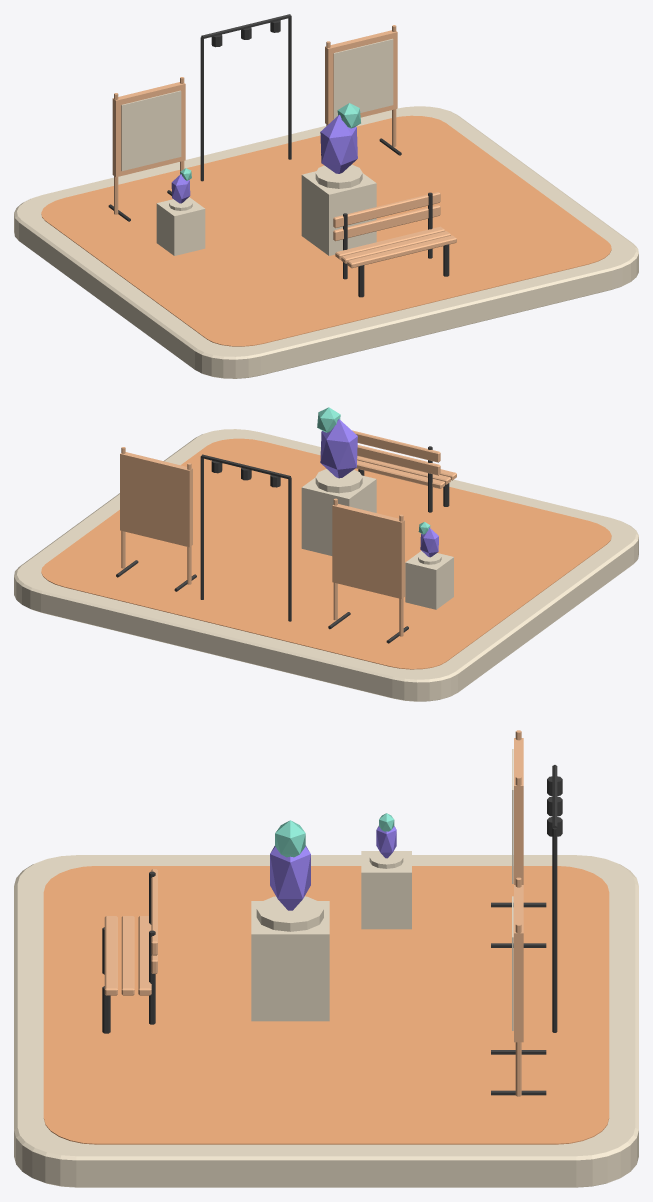
The picture shows the model from 3 angles, top to bottom: view 1: azimuth 30°, elevation 25°; view 2: azimuth 150°, elevation 25°; view 3: azimuth 270°, elevation 25°; orthographic projection. The views are drawn at different scales.
Visible parts, largest first — view 1: COM-02 Floor Surface, COM-01 Rounded Base Direct, Art surface, Display plinth, Art surface.001, Display plinth.001, Frame, Frame.001, Sculpture, Back slat, Back slat.001, Seat slat (+5 smaller); view 2: COM-02 Floor Surface, COM-01 Rounded Base Direct, Frame, Frame.001, Display plinth, Display plinth.001, Sculpture, Back slat.001, Back slat, Plinth, Seat slat.002, Pole (+4 smaller); view 3: COM-02 Floor Surface, COM-01 Rounded Base Direct, Display plinth, Display plinth.001, Sculpture, Plinth, Frame.001, Frame, Pole.001, Seat slat, Seat slat.001, Seat slat.002 (+1 smaller).
Boxes of the visible parts, bbox=[...] form: COM-02 Floor Surface: bbox=[41, 115, 611, 346]; COM-01 Rounded Base Direct: bbox=[14, 106, 638, 378]; Art surface: bbox=[121, 90, 181, 171]; Display plinth: bbox=[301, 171, 376, 255]; Art surface.001: bbox=[333, 38, 393, 118]; Display plinth.001: bbox=[156, 197, 205, 255]; Frame: bbox=[112, 82, 185, 177]; Frame.001: bbox=[325, 30, 397, 124]; Sculpture: bbox=[320, 115, 357, 173]; Back slat: bbox=[333, 205, 440, 241]; Back slat.001: bbox=[333, 192, 440, 228]; Seat slat: bbox=[347, 235, 456, 268]; COM-02 Floor Surface: bbox=[41, 438, 611, 669]; COM-01 Rounded Base Direct: bbox=[14, 429, 638, 701]; Frame: bbox=[332, 504, 404, 598]; Frame.001: bbox=[120, 452, 192, 547]; Display plinth: bbox=[301, 475, 376, 555]; Display plinth.001: bbox=[405, 551, 453, 609]; Sculpture: bbox=[320, 419, 357, 478]; Back slat.001: bbox=[352, 430, 440, 462]; Back slat: bbox=[357, 445, 440, 475]; Plinth: bbox=[315, 469, 362, 493]; Seat slat.002: bbox=[356, 460, 444, 488]; Pole: bbox=[288, 477, 291, 621]; COM-02 Floor Surface: bbox=[43, 866, 609, 1144]; COM-01 Rounded Base Direct: bbox=[14, 855, 638, 1187]; Display plinth: bbox=[251, 901, 329, 1021]; Display plinth.001: bbox=[361, 851, 411, 929]; Sculpture: bbox=[270, 845, 310, 910]; Plinth: bbox=[256, 896, 323, 931]; Frame.001: bbox=[514, 885, 523, 1042]; Frame: bbox=[514, 738, 523, 884]; Pole.001: bbox=[552, 828, 557, 1032]; Seat slat: bbox=[104, 916, 117, 995]; Seat slat.001: bbox=[121, 916, 134, 995]; Seat slat.002: bbox=[138, 916, 151, 995].
Bounding box in the file's own units: 6 × 2.22 × 5.2.
Materials: 1 (1 with a texture image).
